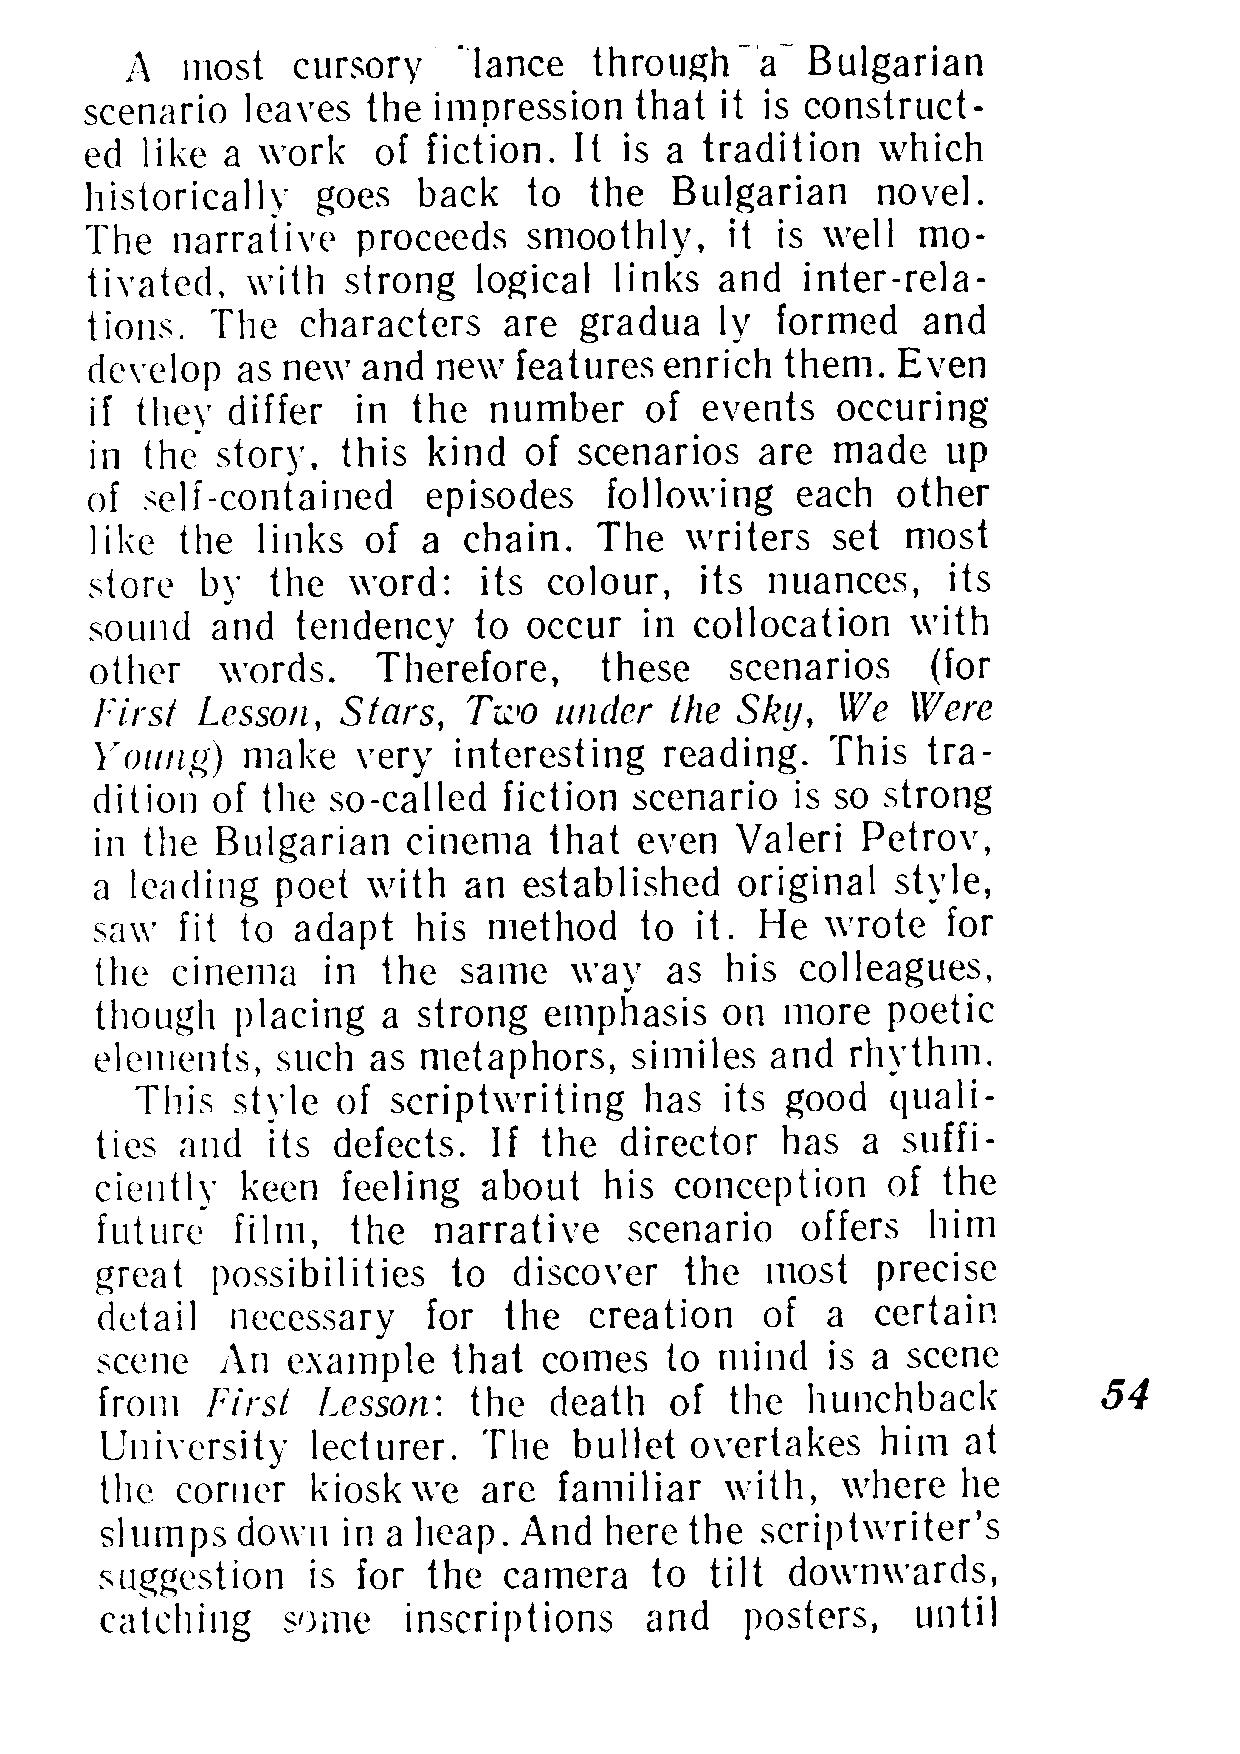content: (83, 40, 1005, 1643)
content_pagenumber: (1095, 1372, 1155, 1420)
